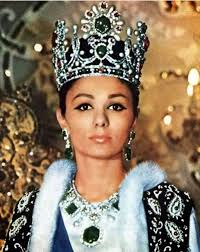middle_eastern_Female: (55, 67, 137, 157)
